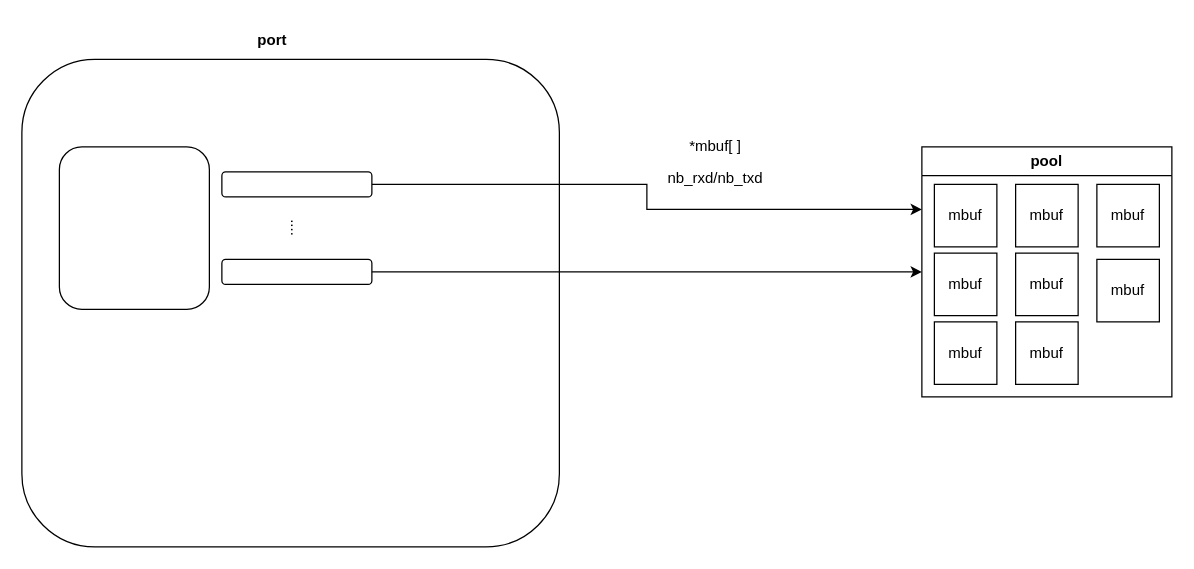
Image size: 1194x569. Some labels were removed from this diagram. The box of each missing label's shape, as (x1, y1, x2, y2) in pixels:
port0: (58, 146, 209, 309)
queue-1: (221, 171, 372, 197)
queue-n: (221, 258, 372, 284)
